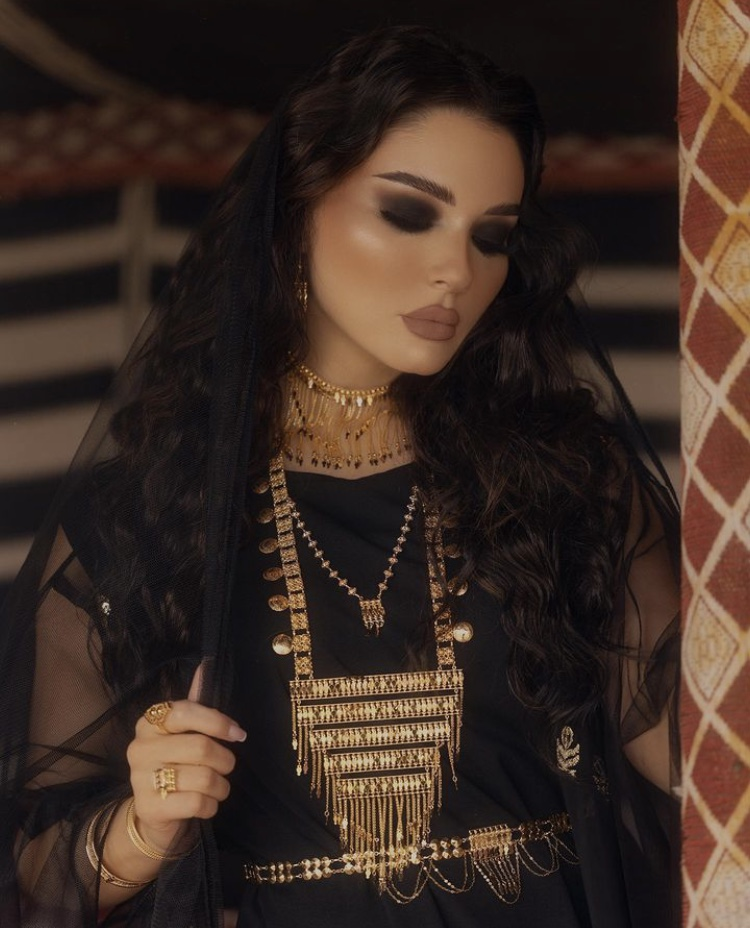Saudi_Founding_Day: (1, 21, 680, 928)
